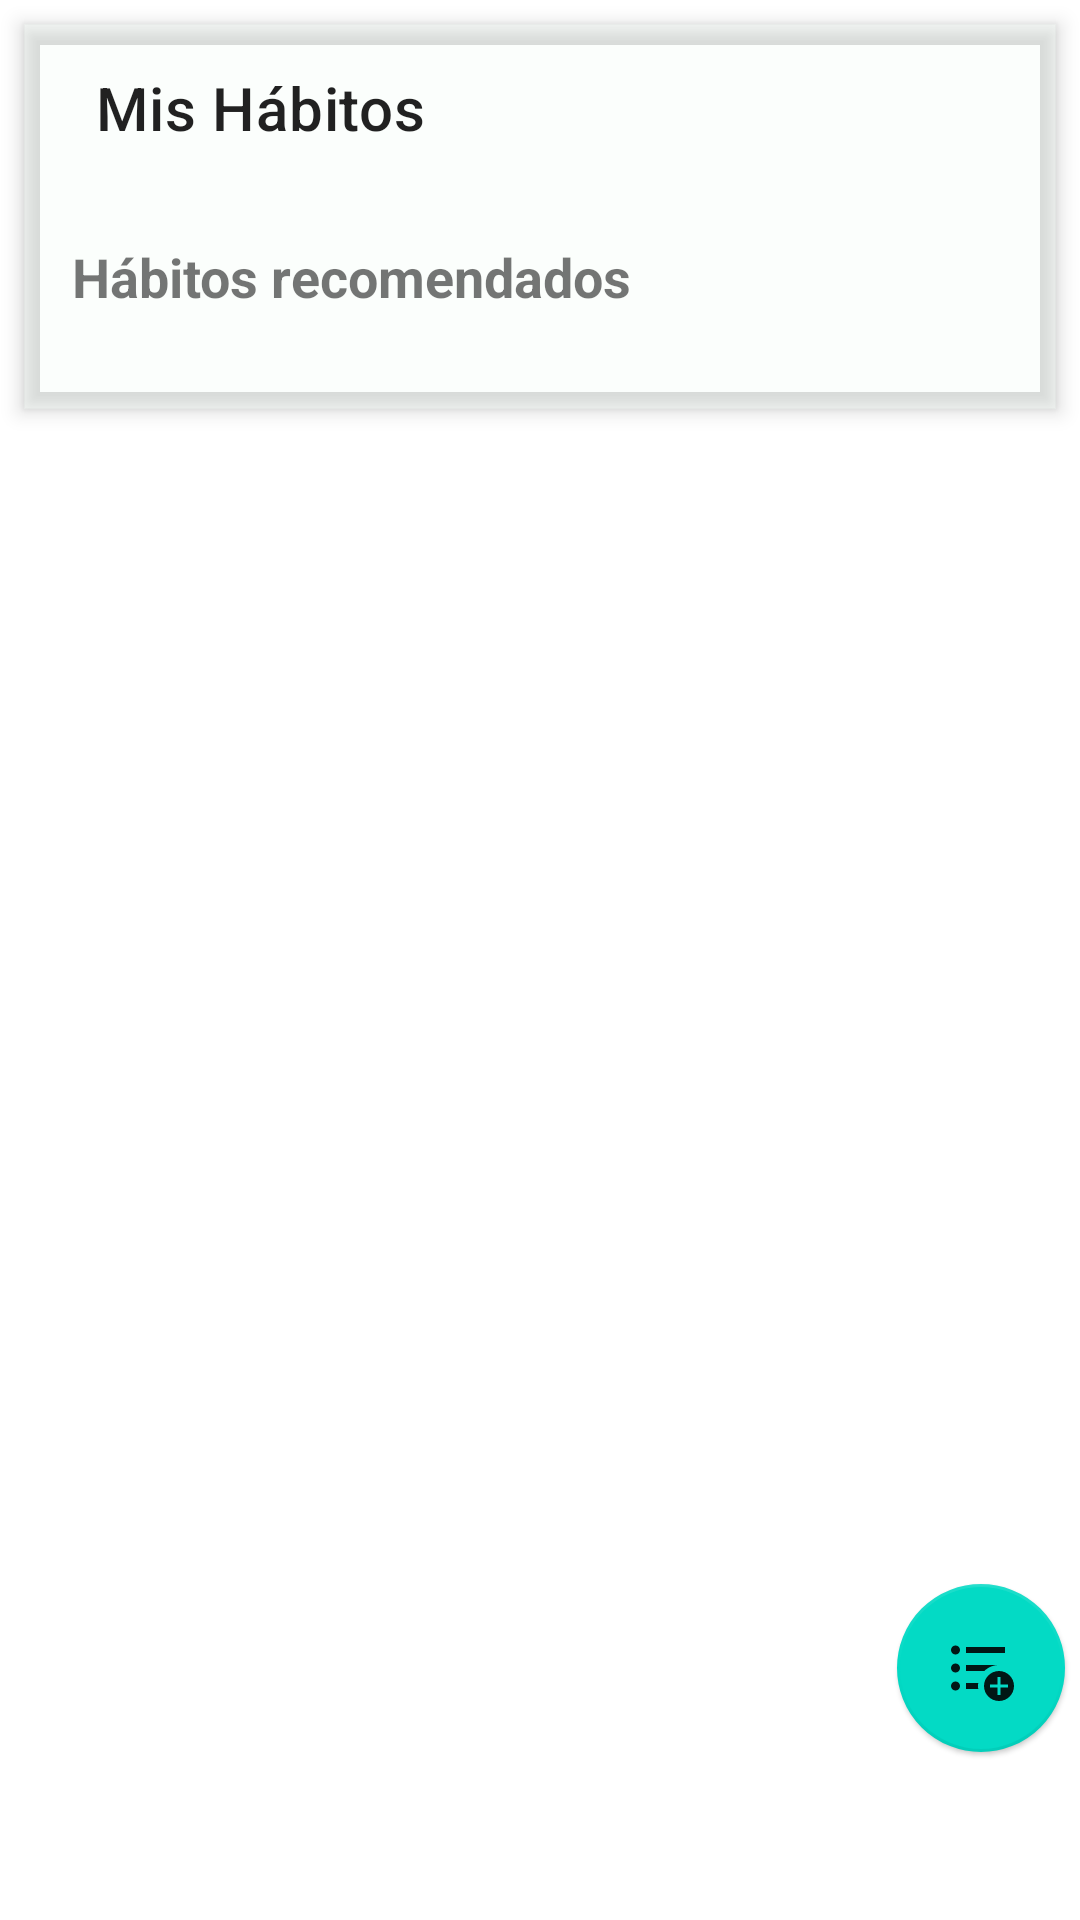

Locate icon controls on the screen. Image size 1080 x 1920, boxes as (x1, y1, x2, y2).
Agregar hábito: (897, 1584, 1065, 1752)
